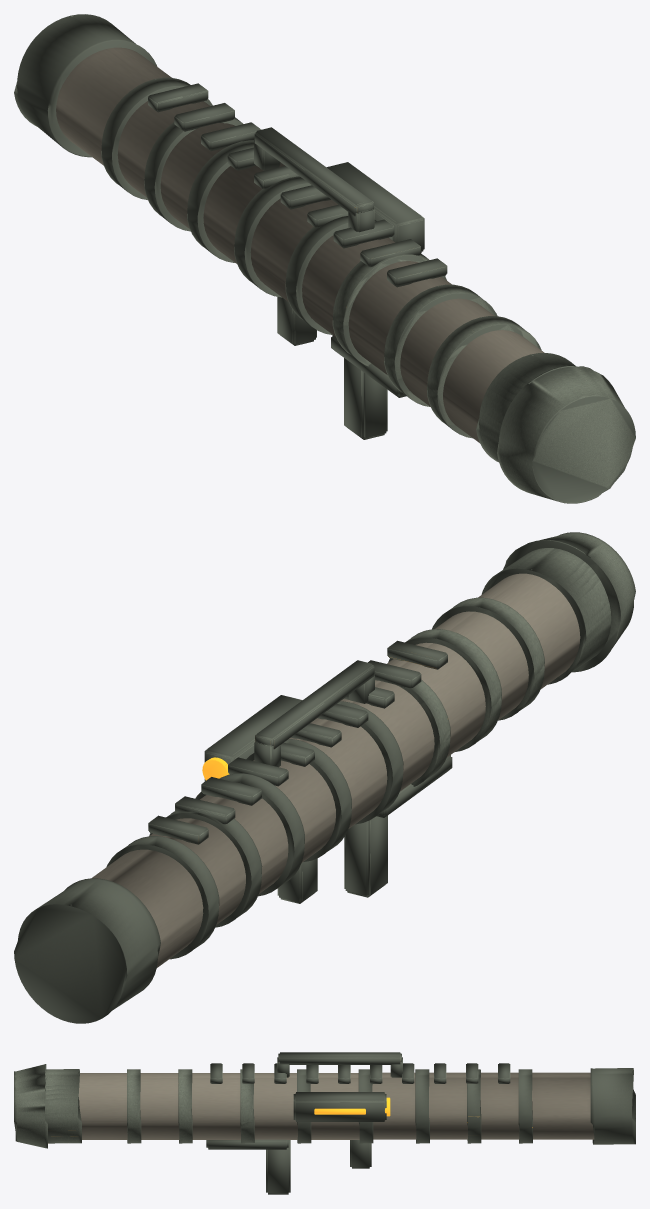
File: SM_Weapon_RocketLauncher.glb
The picture shows the model from 3 angles, top to bottom: view 1: azimuth 30°, elevation 25°; view 2: azimuth 150°, elevation 25°; view 3: azimuth 270°, elevation 25°; orthographic projection. The views are drawn at different scales.
Visible parts, largest first — view 1: SM_Weapon_RocketLauncher; view 2: SM_Weapon_RocketLauncher; view 3: SM_Weapon_RocketLauncher.
Boxes of the visible parts, x1,y1,x2,y2 form: SM_Weapon_RocketLauncher: [14, 14, 635, 503]; SM_Weapon_RocketLauncher: [14, 532, 635, 1023]; SM_Weapon_RocketLauncher: [14, 1052, 635, 1194].
Size of the model in its own units: 0.1841 by 0.2935 by 1.21.
1 material, 1 textured.
